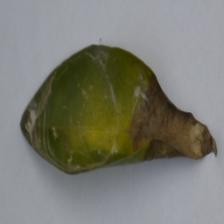black spot: (127, 50, 224, 179)
